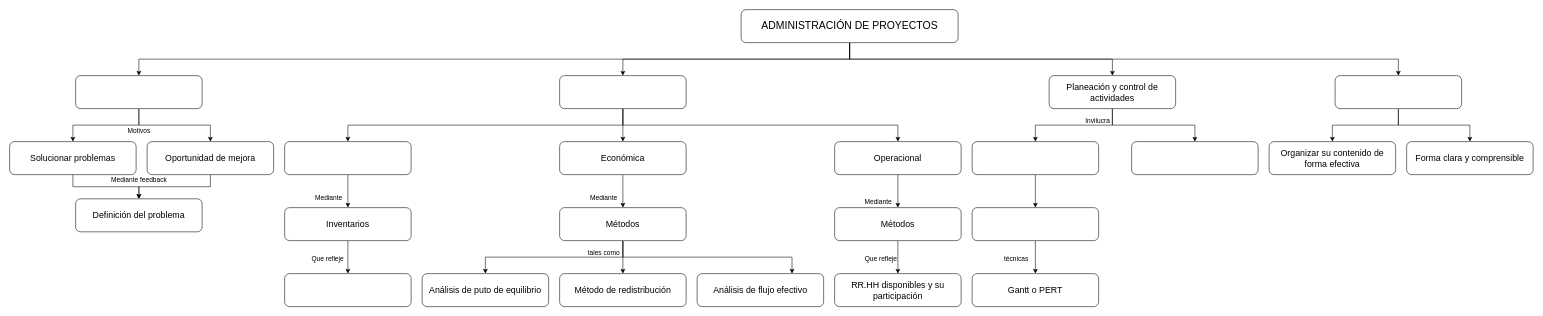
Some shapes in this 1543 by 316 pixel diagram are drawn without their labels. The centre of each missing label's shape, as x and y in pixels:
"Administración de los miembros del equipo" belongs at (1194,158).
"Determinación de la viabilidad" belongs at (622,92).
"Estimación del tiempo requerido para las actividades" belongs at (1035,158).
"Hardware y Software" belongs at (347,290).
"Iniciación" belongs at (138,92).
"Programación y control de tiempos de las actividades" belongs at (1035,224).
"Propuesta del sistema" belongs at (1398,92).
"Técnica" belongs at (347,158).
